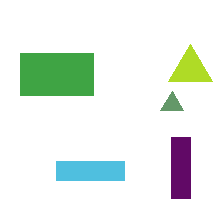rectangle: (20, 53, 93, 95), (56, 161, 124, 180), (171, 137, 190, 198)
triangle: (168, 44, 212, 81), (160, 91, 183, 110)
